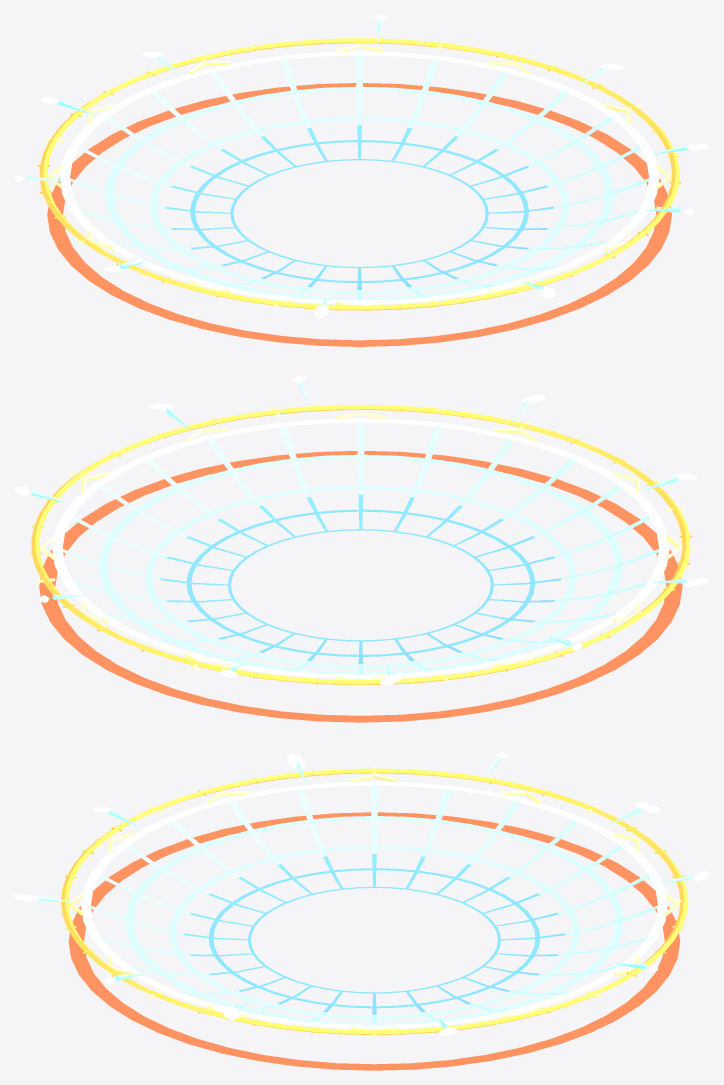
Rendered from the_expansion.glb.
3 renders of one model, top to bottom at view 1: azimuth 30°, elevation 25°; view 2: azimuth 150°, elevation 25°; view 3: azimuth 270°, elevation 25°, orthographic. The views are drawn at different scales.
Parts seen in each view (by area): view 1: grid, body, ring; view 2: grid, body, ring; view 3: grid, body, ring.
Part boxes in pixels (x1,y1,x2,y2): grid: (47, 44, 671, 305); body: (47, 83, 671, 346); ring: (14, 14, 709, 318); grid: (39, 410, 681, 679); body: (39, 451, 682, 722); ring: (14, 375, 709, 685); grid: (69, 774, 679, 1030); body: (68, 812, 680, 1070); ring: (14, 751, 709, 1037).
Size of the model in its own units: 699 by 67.92 by 724.
